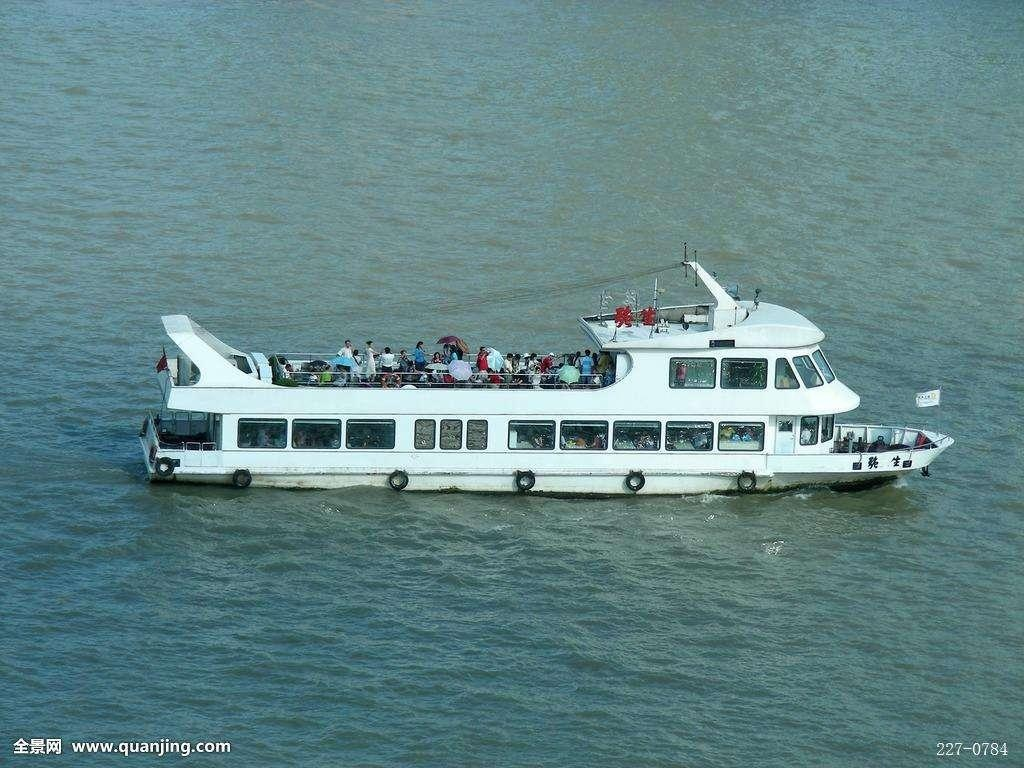otherboat: (140, 255, 958, 493)
